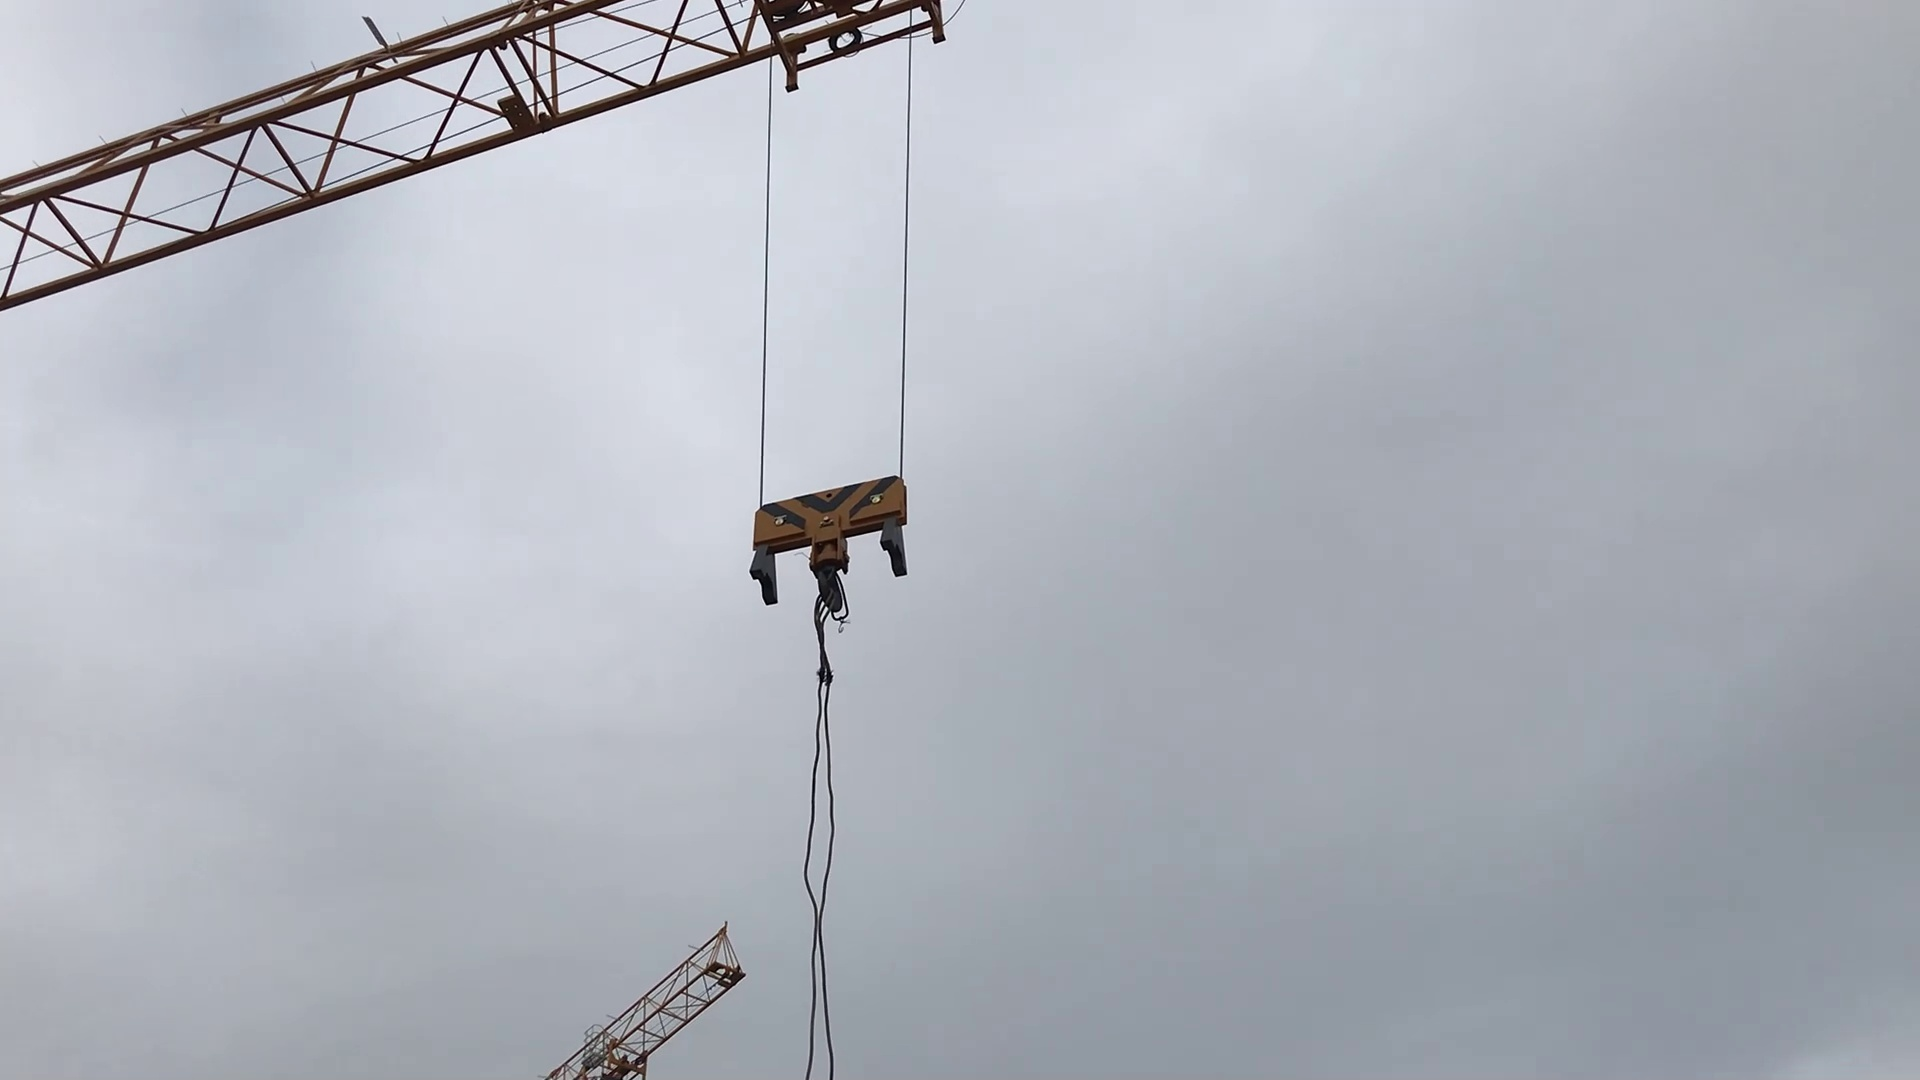hook: (748, 469, 915, 632)
